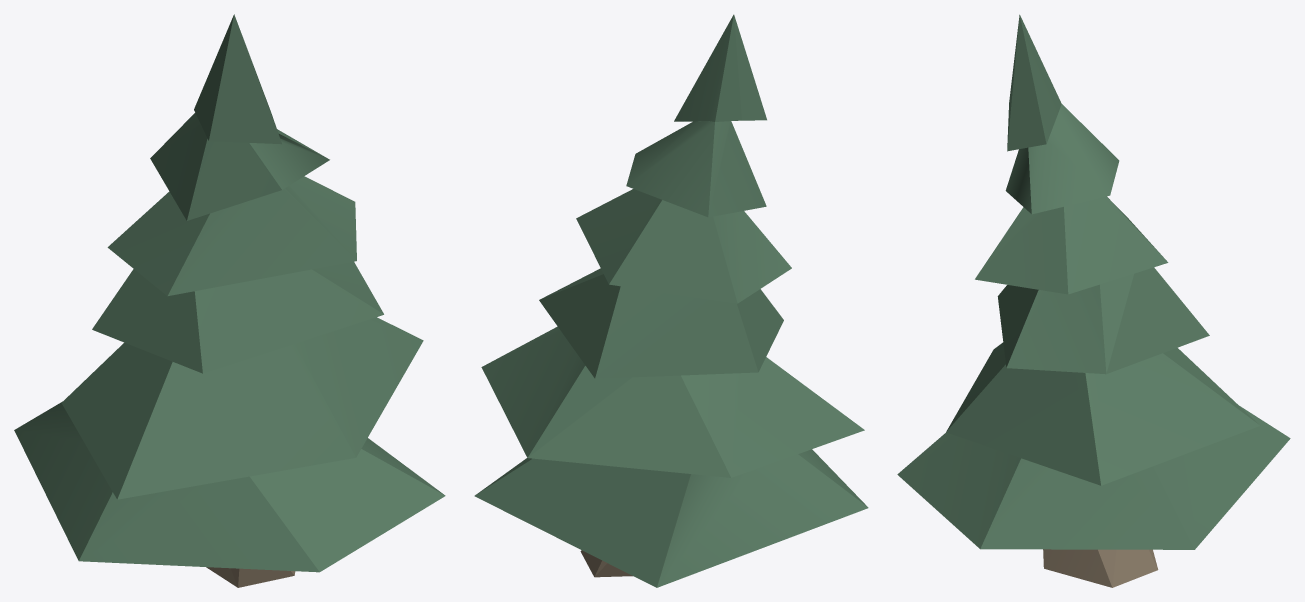
File: pineTree.dae
3 renders of one model, left to right at view 1: azimuth 30°, elevation 25°; view 2: azimuth 150°, elevation 25°; view 3: azimuth 270°, elevation 25°, orthographic. The views are drawn at different scales.
Visible parts, largest first — view 1: Tree_Pine_05; view 2: Tree_Pine_05; view 3: Tree_Pine_05.
Part boxes in pixels (bbox=[...]): Tree_Pine_05: bbox=[14, 14, 445, 587]; Tree_Pine_05: bbox=[474, 14, 868, 587]; Tree_Pine_05: bbox=[897, 14, 1290, 587].
Size of the model in its own units: 268 by 388 by 265.
